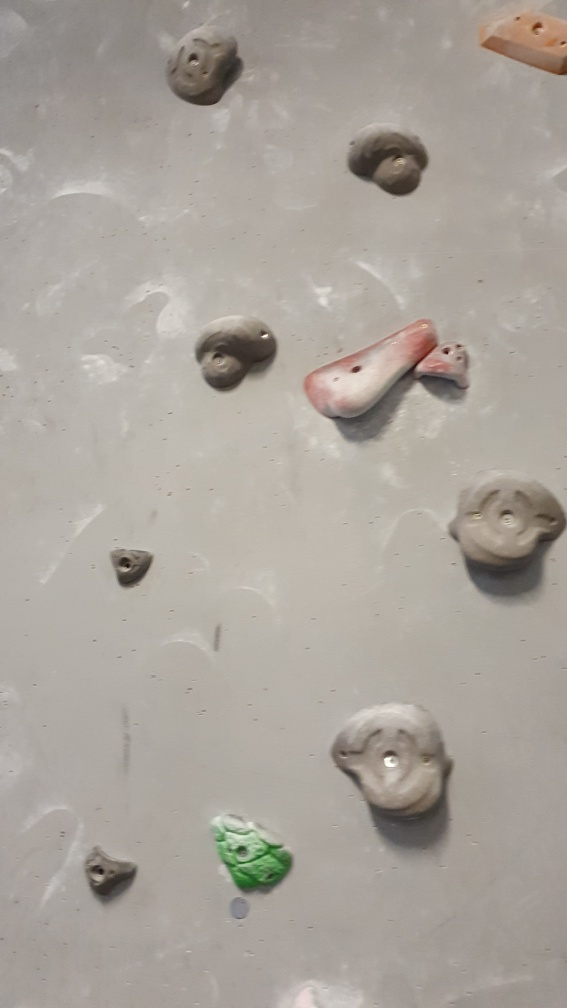Hand Start: (228, 896, 252, 923)
Jug: (331, 701, 455, 817), (448, 468, 565, 576), (207, 808, 299, 895), (165, 24, 243, 107), (196, 312, 278, 390), (348, 119, 432, 195), (416, 340, 475, 392)
Pinch: (478, 7, 567, 77)
